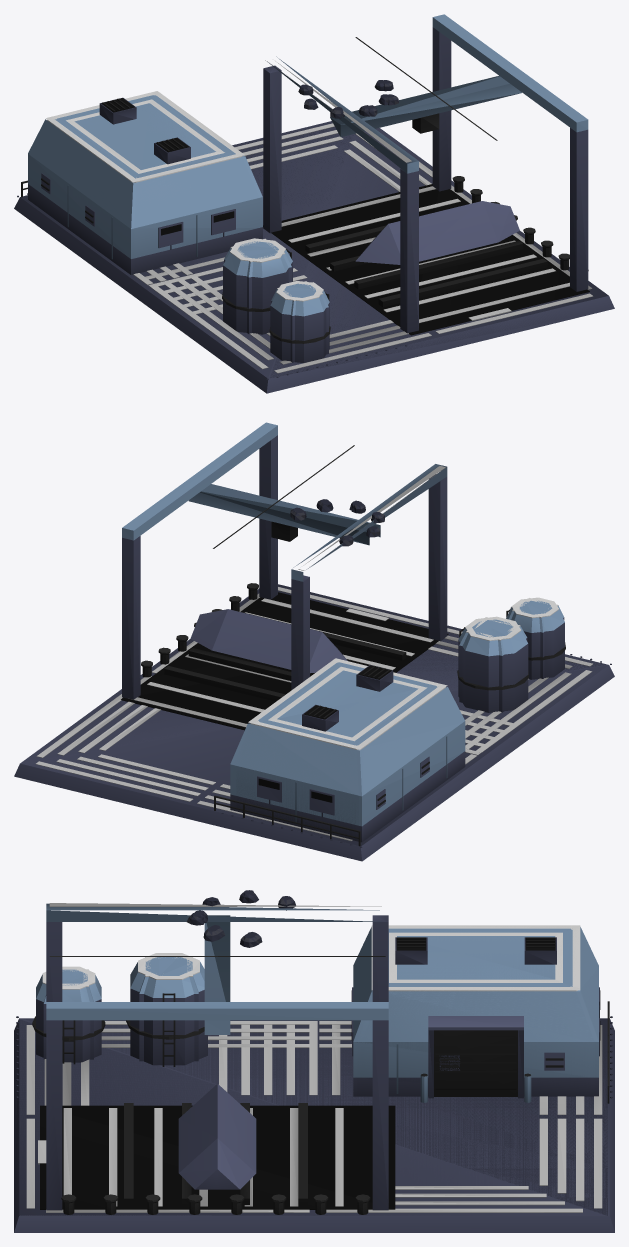
The model's file is veyran_shipyard_damaged.glb.
3 views of the same model, one above another, from view 1: azimuth 30°, elevation 25°; view 2: azimuth 150°, elevation 25°; view 3: azimuth 270°, elevation 25° (orthographic). The views are drawn at different scales.
Parts seen in each view (by area): view 1: body (×3); view 2: body (×3); view 3: body (×3).
Part boxes in pixels (left/top/right/bottom): body (×3): left=14, top=14, right=614, bottom=393; body (×3): left=14, top=422, right=614, bottom=861; body (×3): left=14, top=890, right=614, bottom=1232.
Size of the model in its own units: 14.8 by 7.56 by 18.6.
